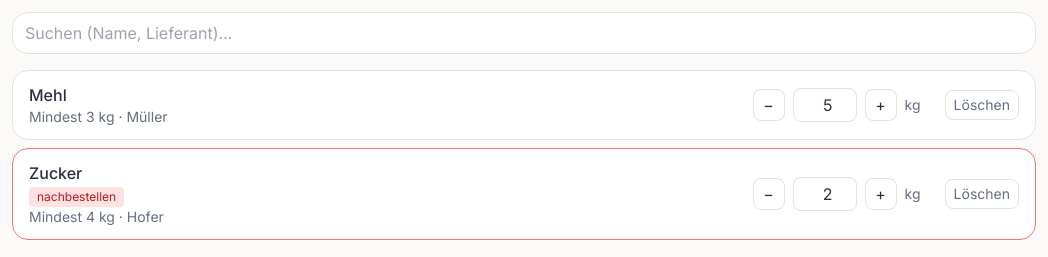
Test case: ArticleList › lists articles, marks low stock, filters, increments and deletes
Expected: the text "Mehl" is shown, [29,85,67,105]
Expected: the text "nachbestellen" is shown, [29,187,124,207]
+ erhöht Mehl von 5 auf 6
Click the button named "Mehl Bestand erhöhen".
click(881, 105)  # box [865,89,897,121]
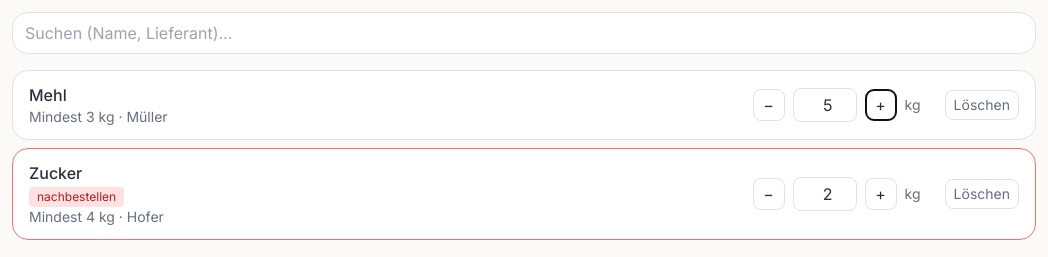
 löschen
Click the button with aria-label "Mehl löschen".
click(982, 105)  # box [945,90,1019,120]
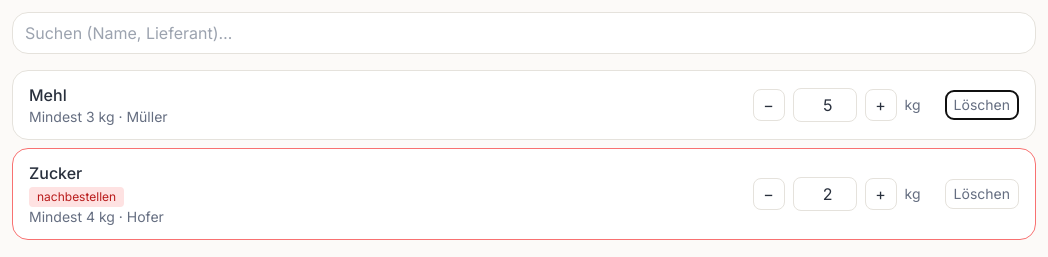
Type "zucker" into the field labelled "Suchen (Name, Lieferant)…".
click(524, 33); type("zucker")  # box [12,12,1036,54]
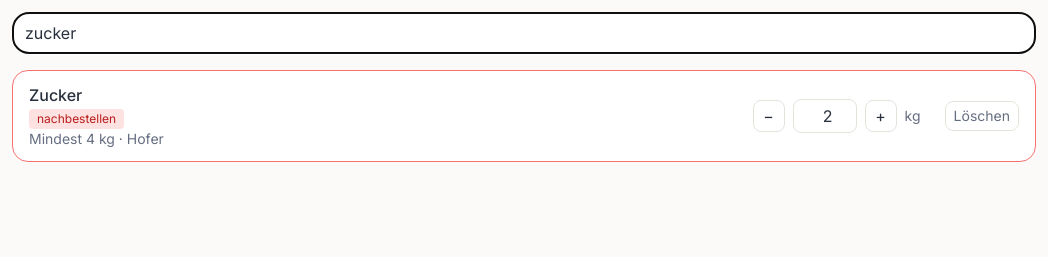
Now the text "Mehl" is gone
